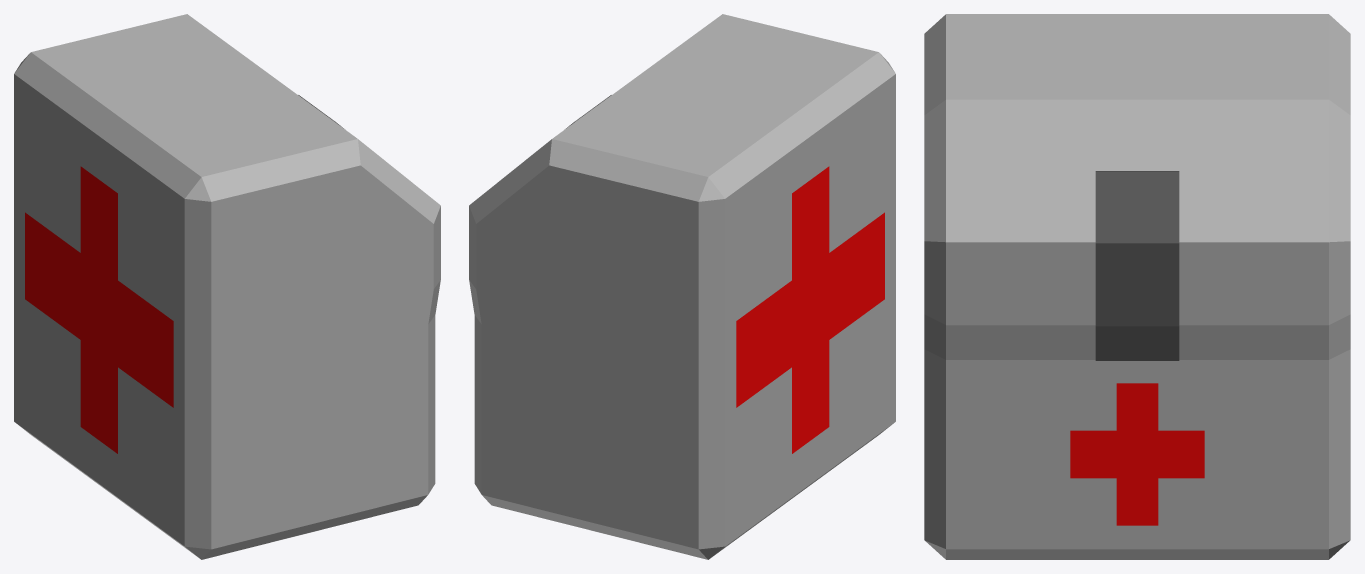
File: mid health.fbx
3 views of the same model, side by side, from view 1: azimuth 30°, elevation 25°; view 2: azimuth 150°, elevation 25°; view 3: azimuth 270°, elevation 25° (orthographic). The views are drawn at different scales.
Visible parts, largest first — view 1: Cube; view 2: Cube; view 3: Cube.
Part boxes in pixels (x1,y1,x2,y2): Cube: (14,14,440,559); Cube: (469,14,895,559); Cube: (924,14,1350,559).
Bounding box in the file's own units: 142 × 200 × 180.
